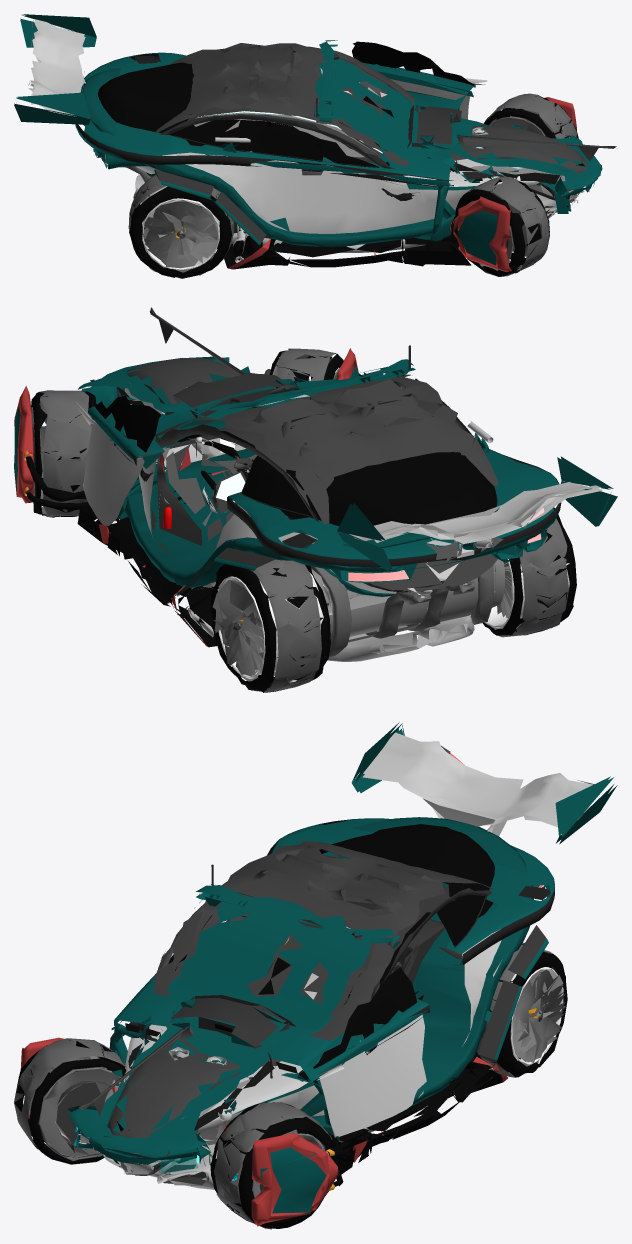
The picture shows the model from 3 angles, top to bottom: view 1: azimuth 30°, elevation 25°; view 2: azimuth 150°, elevation 25°; view 3: azimuth 270°, elevation 25°; orthographic projection. The views are drawn at different scales.
Visible parts, largest first — view 1: Object341_Material #2071_0, Object341_Material #2255_0, Object341_Material #4631_0, Object341_Material #2258_0, Object341_Material #2256_0, Object341_Material #3561_0, Object341_Material #2567_0, Object341_Material #3499_0, Object341_Material #4438_0, Object341_black_0, Object341_Material #5522_0, Object341_Material #2936_0 (+4 smaller); view 2: Object341_Material #4631_0, Object341_Material #2071_0, Object341_Material #3499_0, Object341_Material #2258_0, Object341_Material #2255_0, Object341_Material #2256_0, Object341_Material #3561_0, Object341_Material #4815_0, Object341_Material #2567_0, Object341_black_0, Object341_Material #4508_0, Object341_Material #4438_0 (+7 smaller); view 3: Object341_Material #2071_0, Object341_Material #4631_0, Object341_Material #2255_0, Object341_Material #2256_0, Object341_Material #2258_0, Object341_black_0, Object341_Material #3499_0, Object341_Material #3561_0, Object341_Material #2567_0, Object341_Material #2936_0, Object341_Material #4438_0, Object341_Material #5522_0 (+2 smaller).
Part boxes in pixels (left/top/right/bottom): Object341_Material #2071_0: left=14, top=14, right=602, bottom=265; Object341_Material #2255_0: left=28, top=19, right=583, bottom=262; Object341_Material #4631_0: left=155, top=43, right=616, bottom=202; Object341_Material #2258_0: left=97, top=41, right=474, bottom=167; Object341_Material #2256_0: left=80, top=67, right=522, bottom=246; Object341_Material #3561_0: left=128, top=95, right=578, bottom=278; Object341_Material #2567_0: left=143, top=108, right=556, bottom=268; Object341_Material #3499_0: left=128, top=93, right=576, bottom=276; Object341_Material #4438_0: left=224, top=195, right=569, bottom=269; Object341_black_0: left=155, top=54, right=593, bottom=249; Object341_Material #5522_0: left=76, top=54, right=589, bottom=193; Object341_Material #2936_0: left=228, top=97, right=576, bottom=271; Object341_Material #4631_0: left=122, top=307, right=498, bottom=591; Object341_Material #2071_0: left=14, top=356, right=617, bottom=596; Object341_Material #3499_0: left=38, top=348, right=568, bottom=692; Object341_Material #2258_0: left=95, top=387, right=497, bottom=526; Object341_Material #2255_0: left=76, top=382, right=602, bottom=637; Object341_Material #2256_0: left=113, top=366, right=497, bottom=596; Object341_Material #3561_0: left=31, top=350, right=576, bottom=692; Object341_Material #4815_0: left=140, top=466, right=493, bottom=657; Object341_Material #2567_0: left=31, top=358, right=568, bottom=676; Object341_black_0: left=32, top=345, right=410, bottom=633; Object341_Material #4508_0: left=311, top=559, right=504, bottom=642; Object341_Material #4438_0: left=77, top=490, right=218, bottom=647; Object341_Material #2071_0: left=67, top=722, right=617, bottom=1213; Object341_Material #4631_0: left=56, top=840, right=493, bottom=1175; Object341_Material #2255_0: left=80, top=732, right=603, bottom=1177; Object341_Material #2256_0: left=109, top=817, right=533, bottom=1142; Object341_Material #2258_0: left=168, top=824, right=494, bottom=1068; Object341_black_0: left=78, top=864, right=546, bottom=1191; Object341_Material #3499_0: left=14, top=942, right=561, bottom=1229; Object341_Material #3561_0: left=14, top=943, right=567, bottom=1228; Object341_Material #2567_0: left=24, top=969, right=565, bottom=1197; Object341_Material #2936_0: left=20, top=1037, right=507, bottom=1226; Object341_Material #4438_0: left=79, top=1063, right=502, bottom=1174; Object341_Material #5522_0: left=76, top=819, right=554, bottom=1159.
Size of what is drawn, in the model's own units: 3.51 by 1.12 by 2.84.
